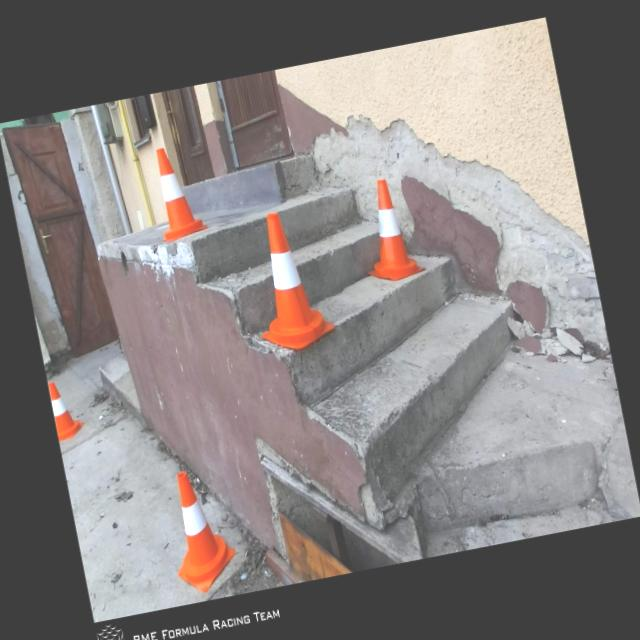orange_cone: (238, 206, 338, 357), (159, 464, 242, 597), (351, 175, 426, 286), (144, 142, 210, 244), (48, 377, 88, 441)
